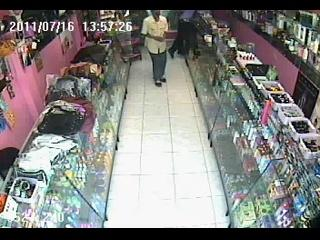Normal: (140, 10, 168, 87)
